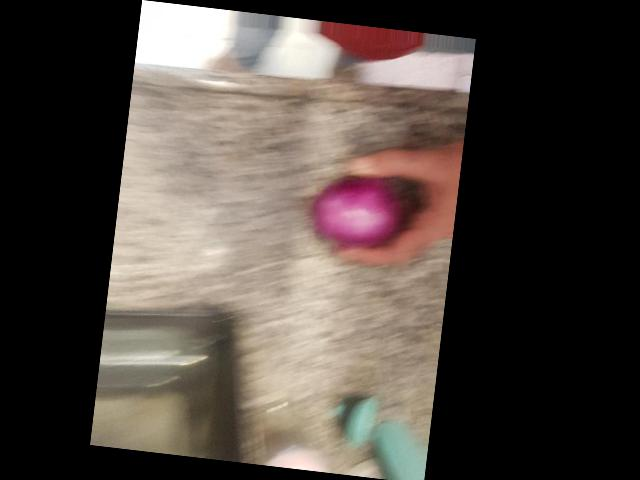onion: (148, 173, 231, 270)
